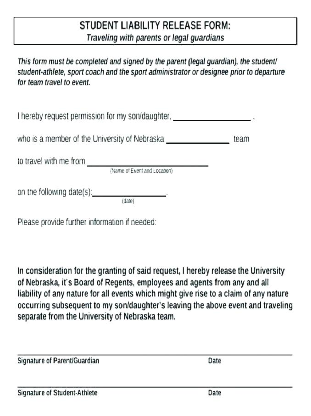textline: (15, 342, 294, 357), (16, 374, 295, 389), (86, 155, 210, 169), (171, 108, 253, 122), (91, 184, 169, 197), (164, 133, 232, 146)
